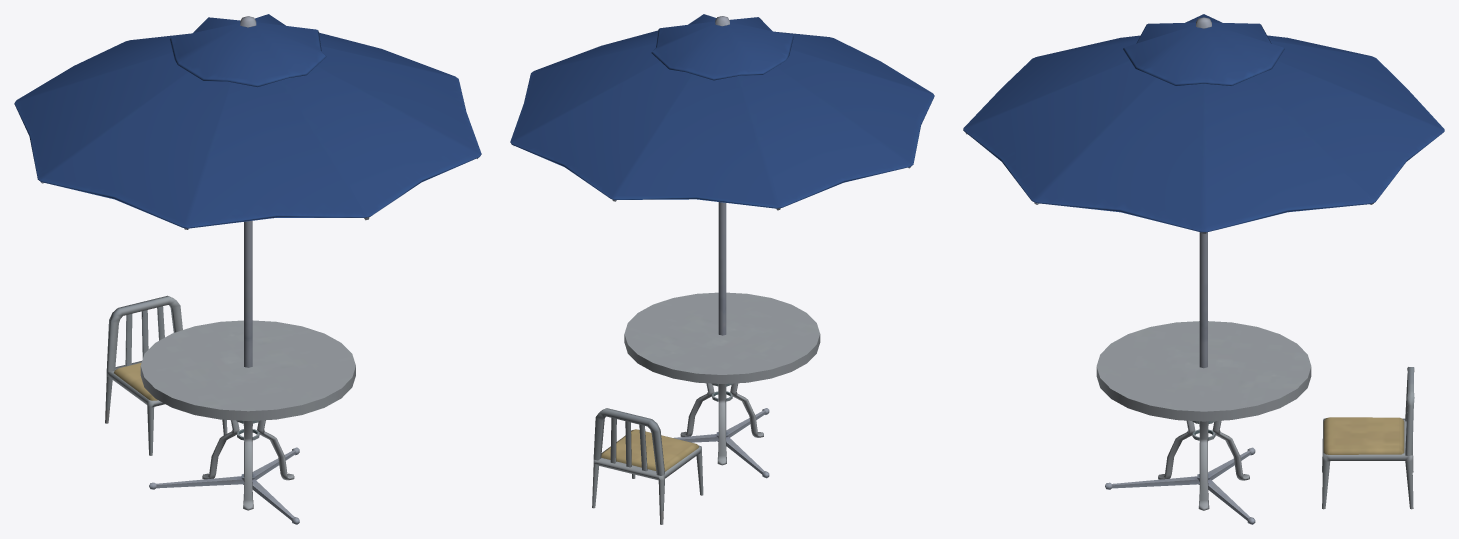
The model's file is objects_un_c03table01.gltf.
The picture shows the model from 3 angles, left to right: view 1: azimuth 30°, elevation 25°; view 2: azimuth 150°, elevation 25°; view 3: azimuth 270°, elevation 25°; orthographic projection. The views are drawn at different scales.
Parts seen in each view (by area): view 1: objects_un_c03table01; view 2: objects_un_c03table01; view 3: objects_un_c03table01.
Part boxes in pixels (bbox=[...]): objects_un_c03table01: bbox=[14, 14, 481, 524]; objects_un_c03table01: bbox=[510, 14, 934, 524]; objects_un_c03table01: bbox=[963, 14, 1444, 524].
Size of what is drawn, in the model's own units: 2.64 by 2.86 by 2.64.
1 material, 1 textured.
